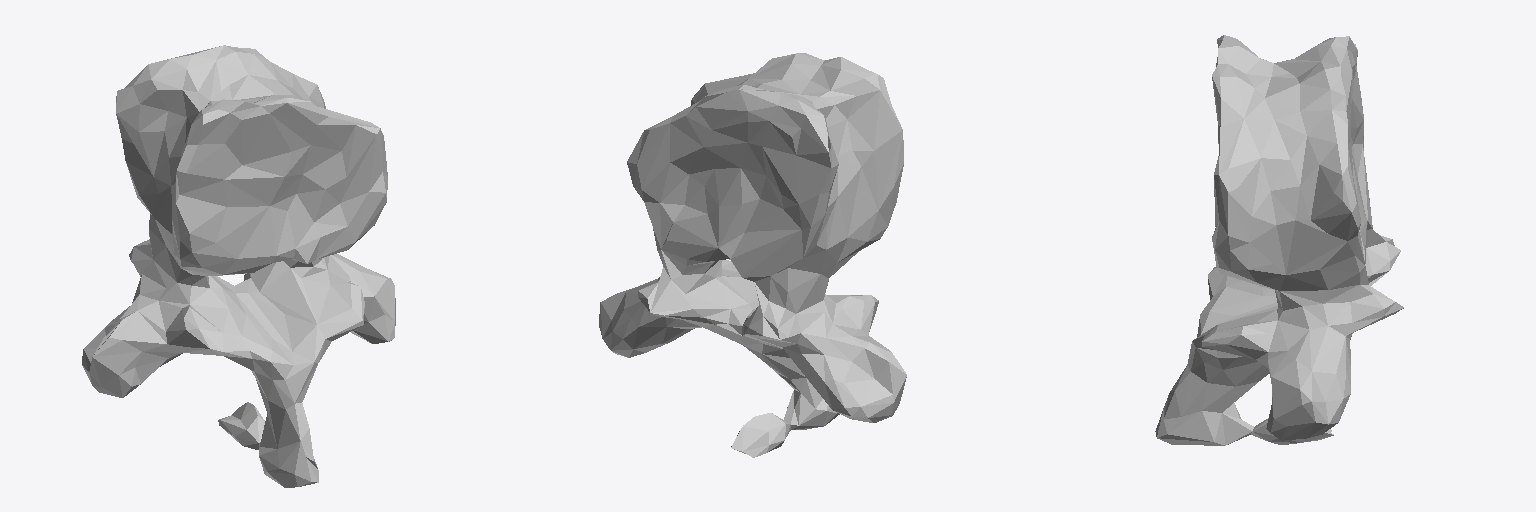
File: transformed_Segment_17.obj
3 renders of one model, left to right at view 1: azimuth 30°, elevation 25°; view 2: azimuth 150°, elevation 25°; view 3: azimuth 270°, elevation 25°, orthographic.
Size of the model in its own units: 0.0658 by 0.0795 by 0.0468.